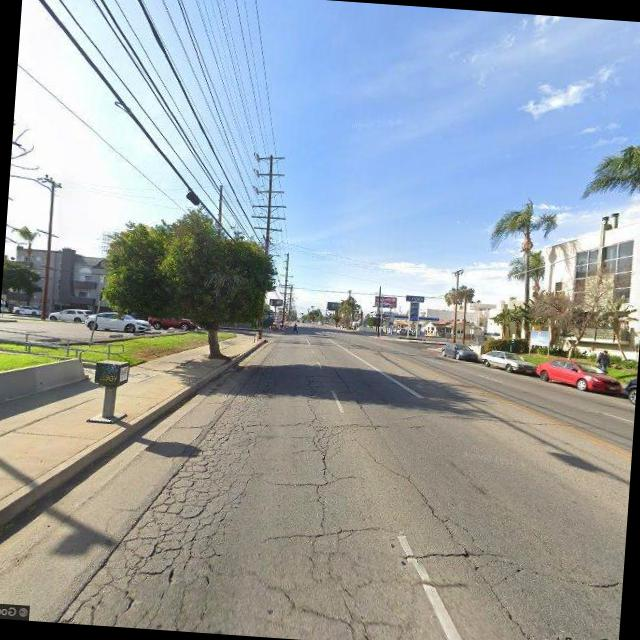crack: (91, 392, 524, 640)
